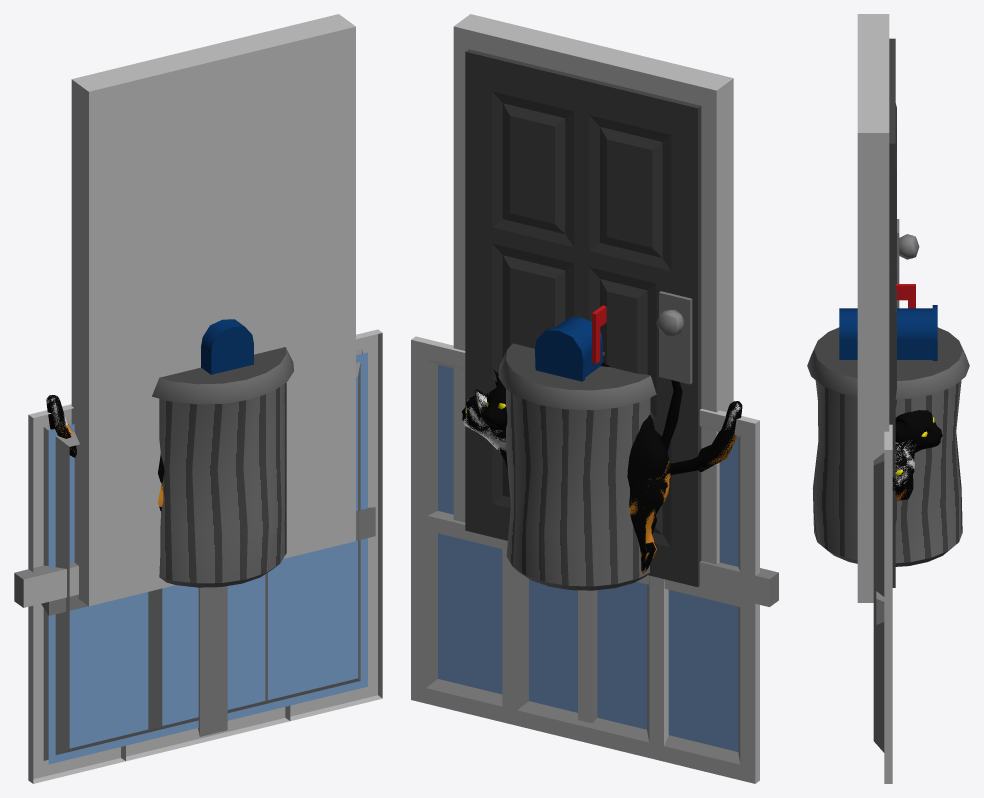
Rendered from Environ Assets 1.fbx.
The picture shows the model from 3 angles, left to right: view 1: azimuth 30°, elevation 25°; view 2: azimuth 150°, elevation 25°; view 3: azimuth 270°, elevation 25°; orthographic projection. The views are drawn at different scales.
Visible parts, largest first — view 1: Door, Window_Square, Trash_Can, Window_Long, Mailbox, Fence_Beam, Cat_1; view 2: Door, Window_Square, Trash_Can, Window_Long, Cat_1, Mailbox, Cat_5, Fence_Beam, Cat_2; view 3: Door, Trash_Can, Window_Square, Mailbox, Cat_5, Cat_1, Cat_2.
Part boxes in pixels (left/top/right/bottom): Door: left=71, top=14, right=355, bottom=606; Window_Square: left=28, top=329, right=382, bottom=783; Trash_Can: left=152, top=347, right=294, bottom=587; Window_Long: left=121, top=560, right=290, bottom=760; Mailbox: left=201, top=319, right=253, bottom=374; Fence_Beam: left=14, top=562, right=78, bottom=607; Cat_1: left=46, top=395, right=162, bottom=511; Door: left=453, top=14, right=733, bottom=587; Window_Square: left=411, top=336, right=759, bottom=783; Trash_Can: left=498, top=343, right=656, bottom=590; Window_Long: left=502, top=539, right=668, bottom=760; Cat_1: left=461, top=389, right=742, bottom=572; Mailbox: left=535, top=305, right=606, bottom=381; Cat_5: left=483, top=362, right=682, bottom=534; Fence_Beam: left=646, top=561, right=778, bottom=606; Cat_2: left=463, top=391, right=740, bottom=573; Door: left=857, top=14, right=919, bottom=602; Trash_Can: left=807, top=327, right=969, bottom=566; Window_Square: left=873, top=424, right=892, bottom=783; Mailbox: left=839, top=284, right=937, bottom=360; Cat_5: left=895, top=410, right=942, bottom=452; Cat_1: left=892, top=437, right=916, bottom=500; Cat_2: left=893, top=440, right=915, bottom=501.
Size of the model in its own units: 0.9356 by 1.7 by 0.3967.
